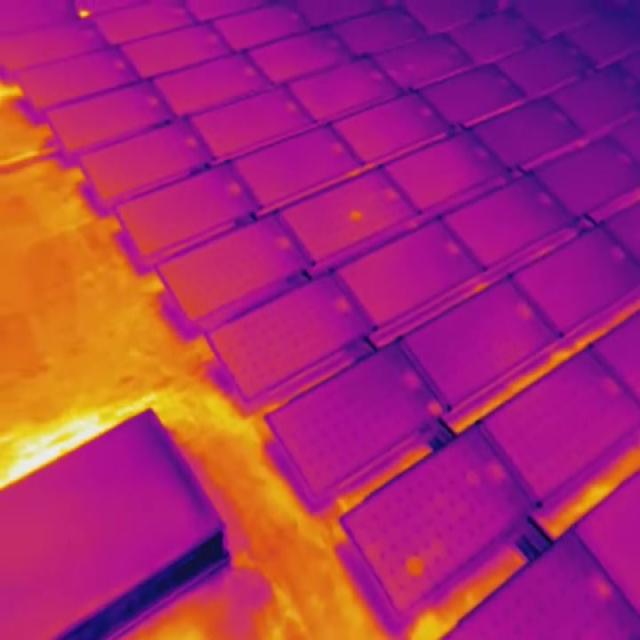Orange-Spots: (406, 552, 432, 576), (348, 205, 365, 222), (79, 8, 91, 19)
